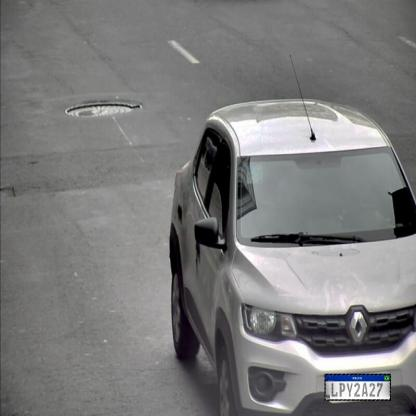PlacaM: (325, 374, 391, 401)
